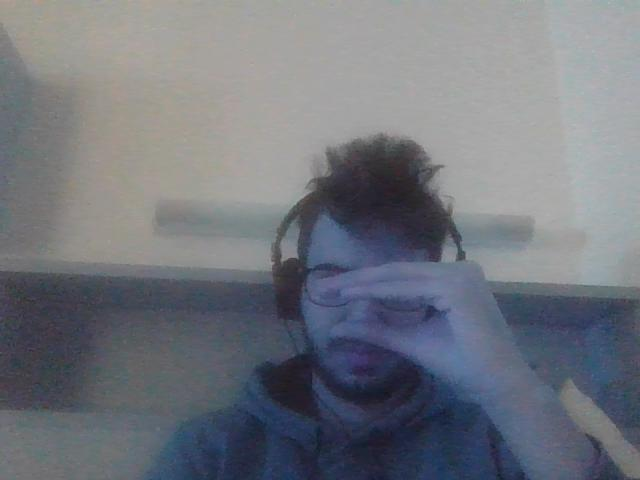no: (312, 263, 505, 377)
